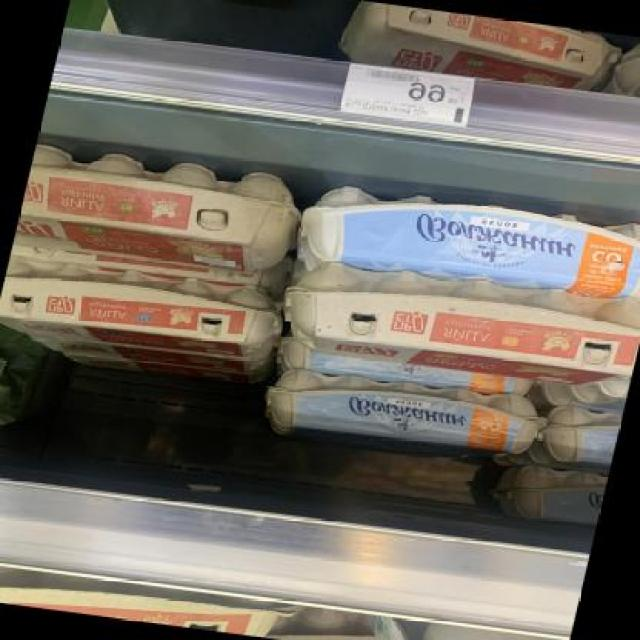Egg: (274, 254, 640, 394), (13, 142, 305, 278), (0, 251, 289, 371)
